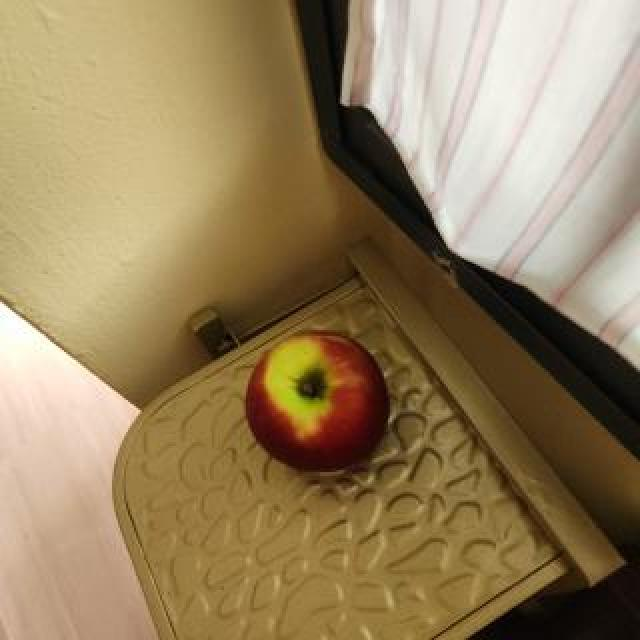Fresh Apple: (232, 327, 386, 485)
